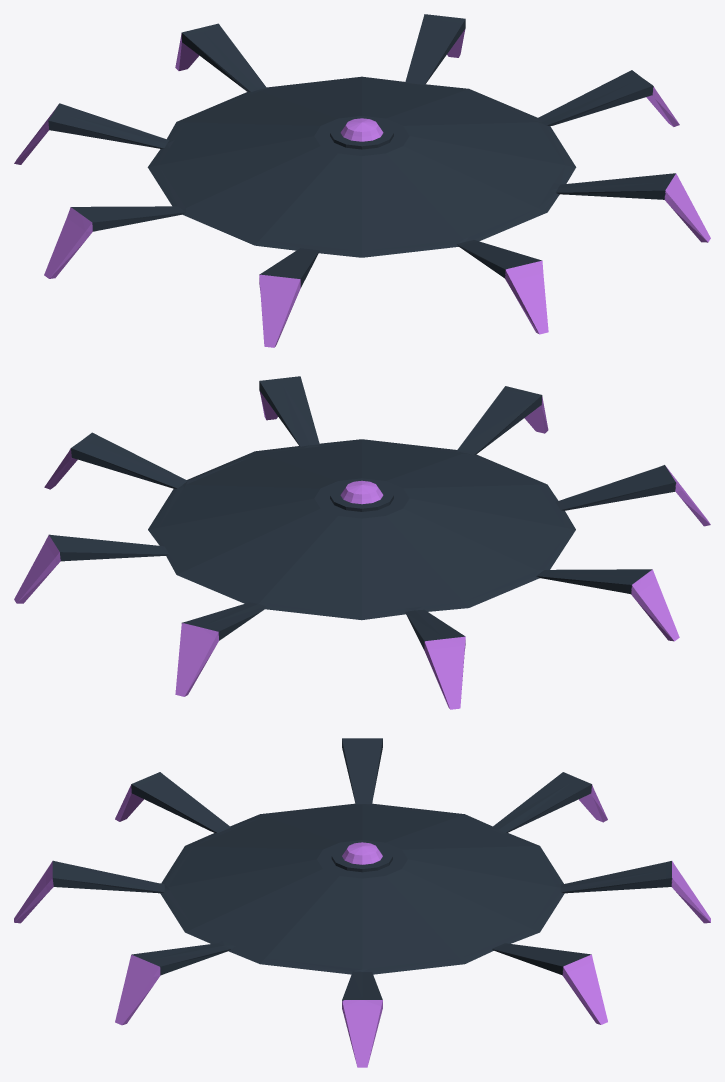
File: Spider_Plant_000010.obj
3 renders of one model, top to bottom at view 1: azimuth 30°, elevation 25°; view 2: azimuth 150°, elevation 25°; view 3: azimuth 270°, elevation 25°, orthographic. The views are drawn at different scales.
Visible parts, largest first — view 1: Circle_Circle.001; view 2: Circle_Circle.001; view 3: Circle_Circle.001.
Part boxes in pixels (bbox=[...]): Circle_Circle.001: bbox=[14, 14, 710, 347]; Circle_Circle.001: bbox=[14, 376, 710, 709]; Circle_Circle.001: bbox=[14, 738, 710, 1067].
Size of the model in its own units: 3.4 by 0.4066 by 3.4.
